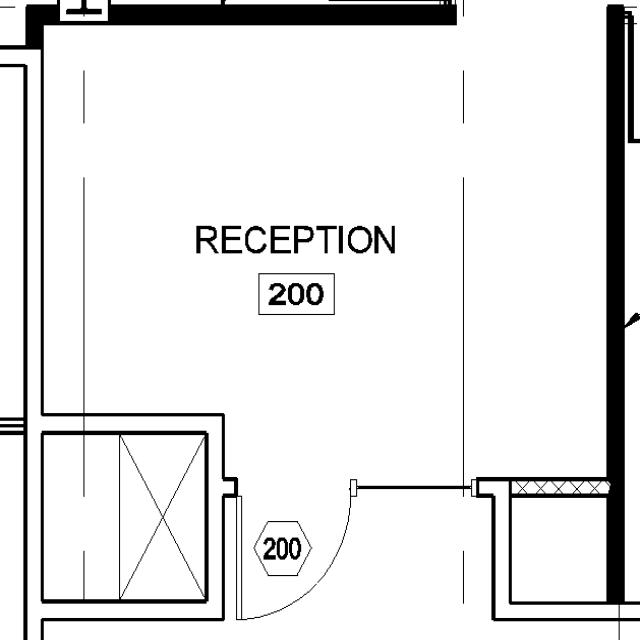Doors: (230, 482, 360, 628)
